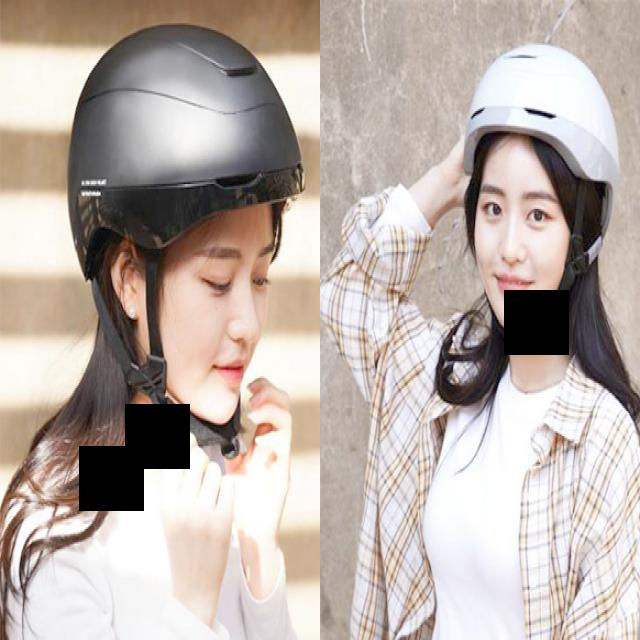Helmet: (68, 23, 306, 427), (464, 40, 621, 338)
